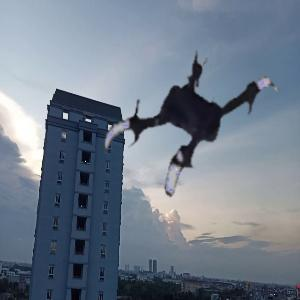drone: (99, 38, 287, 226)
